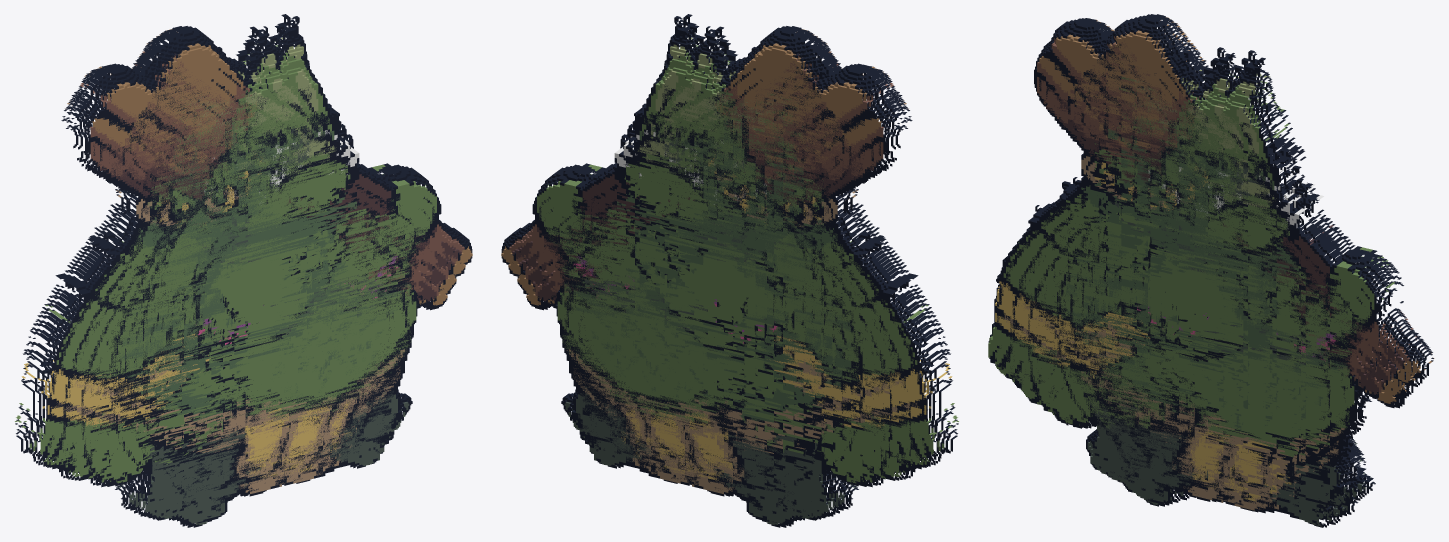
File: troll_andando.glb
The picture shows the model from 3 angles, left to right: view 1: azimuth 30°, elevation 25°; view 2: azimuth 150°, elevation 25°; view 3: azimuth 330°, elevation 25°; orthographic projection. The views are drawn at different scales.
Parts seen in each view (by area): view 1: q0, q1, q2, q3, q4, q7, q6, q5, q9, q8; view 2: q0, q1, q2, q7, q3, q6, q5, q4, q8, q9; view 3: q0, q2, q1, q3, q4, q5, q6, q7, q9, q8.
Part boxes in pixels (box(x1,y1,x2,y2)): q0: box(111, 47, 451, 499); q1: box(133, 26, 465, 493); q2: box(132, 14, 472, 488); q3: box(110, 26, 456, 525); q4: box(81, 40, 447, 527); q7: box(15, 46, 412, 518); q6: box(22, 73, 402, 520); q5: box(35, 98, 445, 520); q9: box(82, 86, 430, 502); q8: box(37, 65, 395, 507); q0: box(522, 47, 862, 498); q1: box(508, 26, 840, 490); q2: box(501, 14, 841, 487); q7: box(561, 46, 958, 518); q3: box(517, 26, 864, 525); q6: box(571, 73, 951, 520); q5: box(528, 98, 938, 520); q4: box(526, 40, 892, 527); q8: box(578, 65, 936, 508); q9: box(543, 86, 891, 504); q0: box(1070, 48, 1411, 513); q2: box(1089, 17, 1434, 497); q1: box(1081, 33, 1426, 504); q3: box(1054, 14, 1415, 514); q4: box(1028, 27, 1409, 517); q5: box(1008, 42, 1406, 506); q6: box(995, 30, 1366, 505); q7: box(988, 18, 1375, 506); q9: box(1034, 43, 1376, 527); q8: box(1010, 24, 1358, 520).
Bounding box in the file's own units: 198 × 208 × 20.
Materials: 1 (1 with a texture image).
